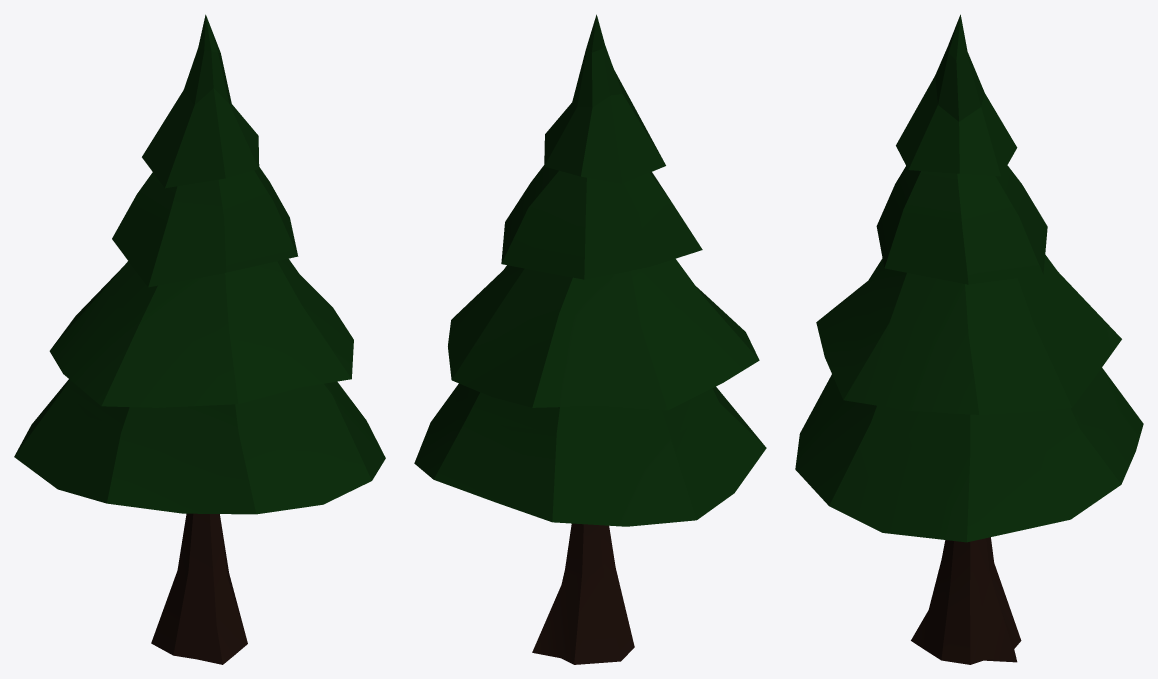
The model's file is pino_2.FBX.
3 renders of one model, left to right at view 1: azimuth 30°, elevation 25°; view 2: azimuth 150°, elevation 25°; view 3: azimuth 270°, elevation 25°, orthographic.
Parts seen in each view (by area): view 1: pCylinder1; view 2: pCylinder1; view 3: pCylinder1.
Part boxes in pixels (x1,y1,x2,y2): pCylinder1: [14, 14, 385, 664]; pCylinder1: [414, 14, 766, 664]; pCylinder1: [795, 14, 1143, 664].
Size of the model in its own units: 4.01 by 7.98 by 3.91.
